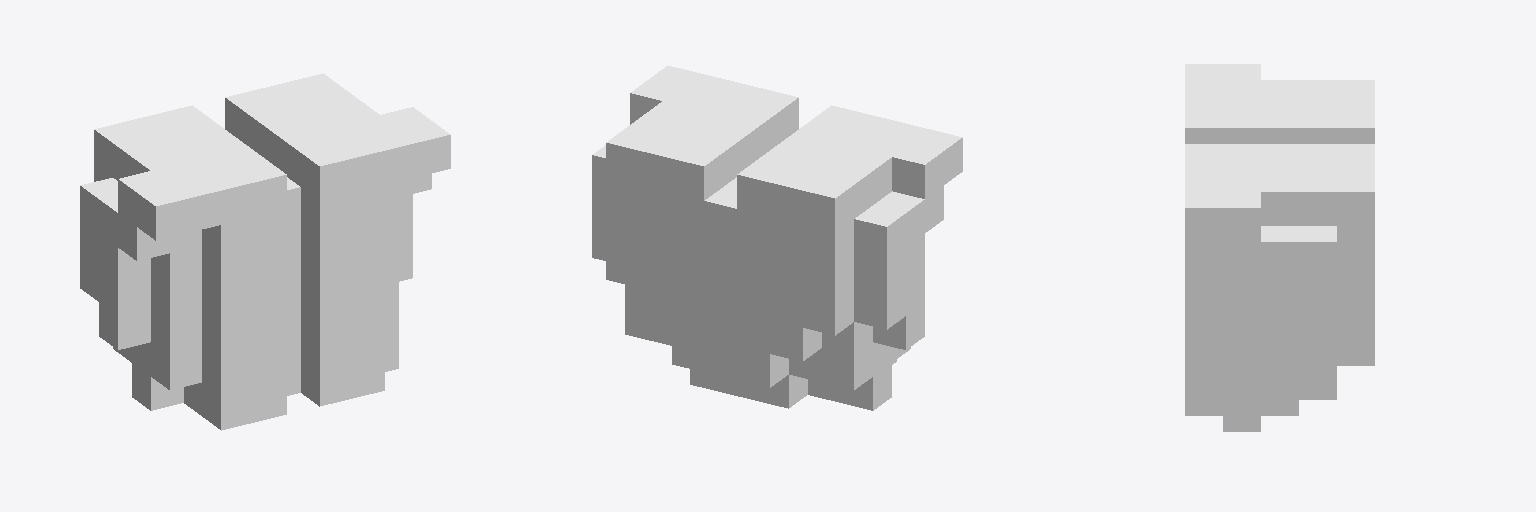
File: golemHead.obj
3 renders of one model, left to right at view 1: azimuth 30°, elevation 25°; view 2: azimuth 150°, elevation 25°; view 3: azimuth 270°, elevation 25°, orthographic.
Parts seen in each view (by area): view 1: golemHead; view 2: golemHead; view 3: golemHead.
Boxes of the visible parts, box(x1,y1,x2,y2) form: golemHead: box(80, 73, 450, 430); golemHead: box(592, 66, 962, 410); golemHead: box(1185, 64, 1374, 431).
Size of the model in its own units: 9 by 7 by 5.